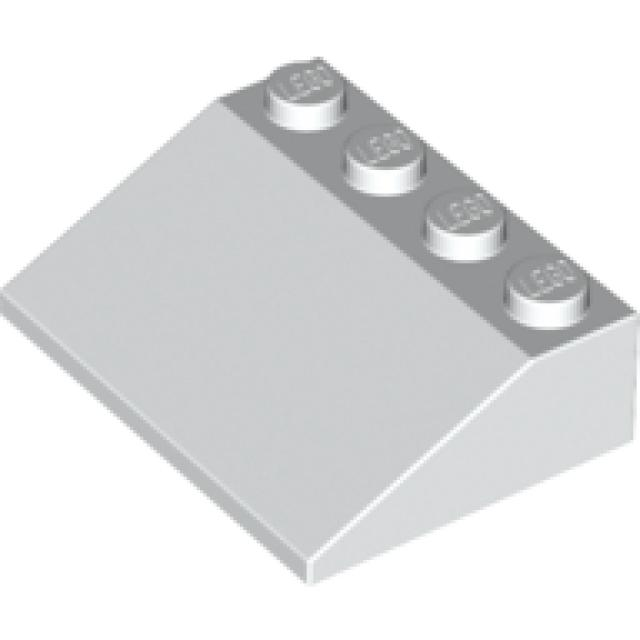White_Large: (0, 57, 640, 590)
